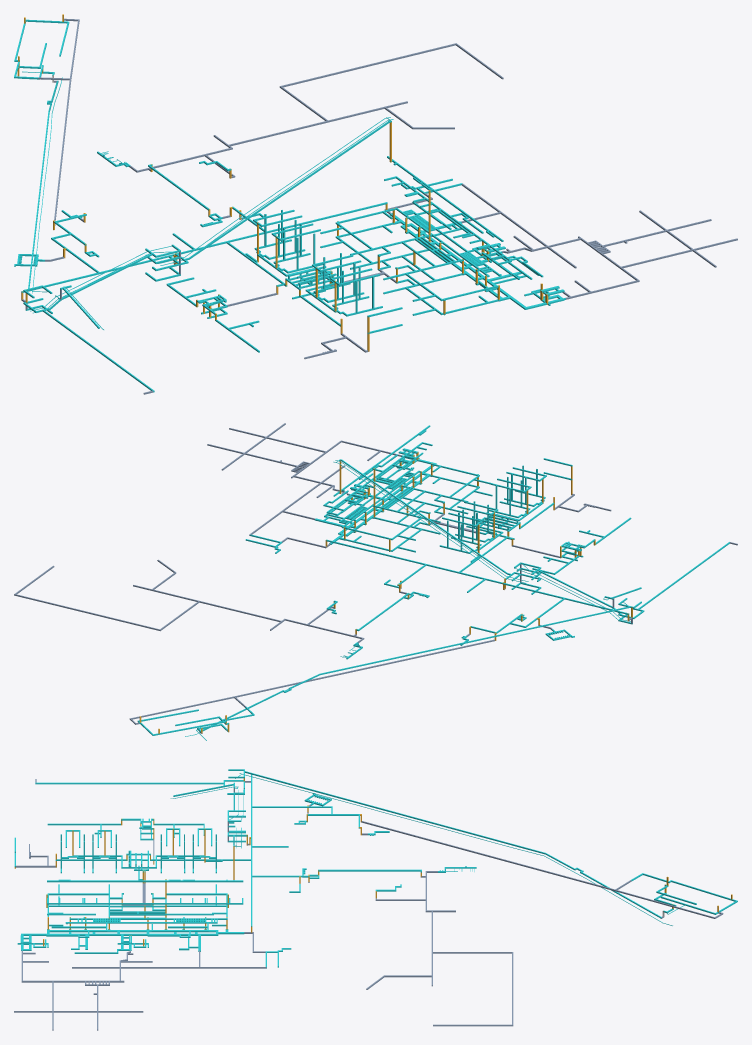
File: cable.glb
The picture shows the model from 3 angles, top to bottom: view 1: azimuth 30°, elevation 25°; view 2: azimuth 150°, elevation 25°; view 3: azimuth 270°, elevation 25°; orthographic projection. The views are drawn at different scales.
Visible parts, largest first — view 1: cable_indoor_shumd2_0_cableBridge_001; view 2: cable_indoor_shumd3_0_cableBridge_001, cable_outdoor_none_0_cableChute_030; view 3: cable_indoor_shumd3_0_cableBridge_001, cable_outdoor_none_0_cableChute_030.
Part boxes in pixels (x1,y1,x2,y2): cable_indoor_shumd2_0_cableBridge_001: (189,121,388,259); cable_indoor_shumd3_0_cableBridge_001: (320,606,630,675); cable_outdoor_none_0_cableChute_030: (234,639,495,697); cable_indoor_shumd3_0_cableBridge_001: (245,771,545,854); cable_outdoor_none_0_cableChute_030: (361,821,614,890).
Size of the model in its own units: 449 by 91.55 by 548.
